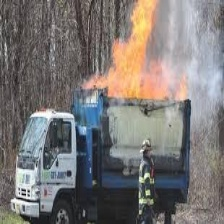fire: (81, 1, 189, 99)
smoke: (172, 9, 218, 76)
